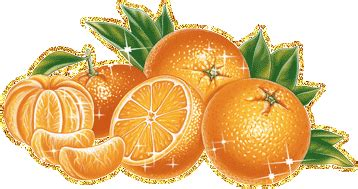orange: (200, 73, 308, 186), (144, 28, 251, 100), (70, 60, 144, 109)
